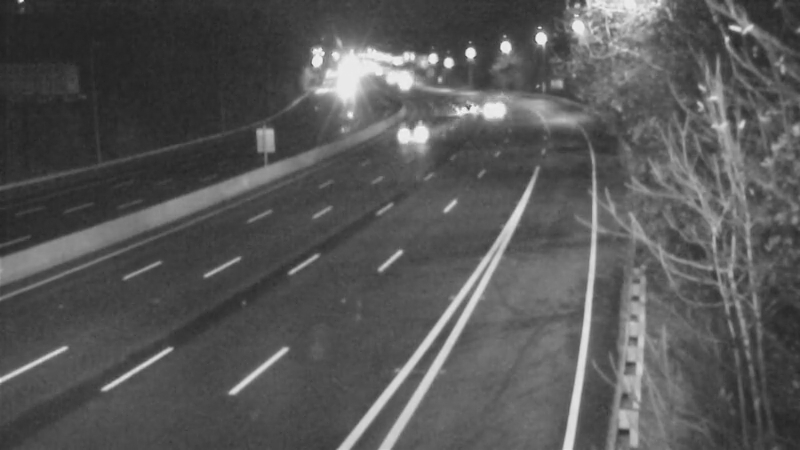vehicle: (467, 83, 517, 133), (440, 84, 490, 134), (394, 108, 444, 158)
